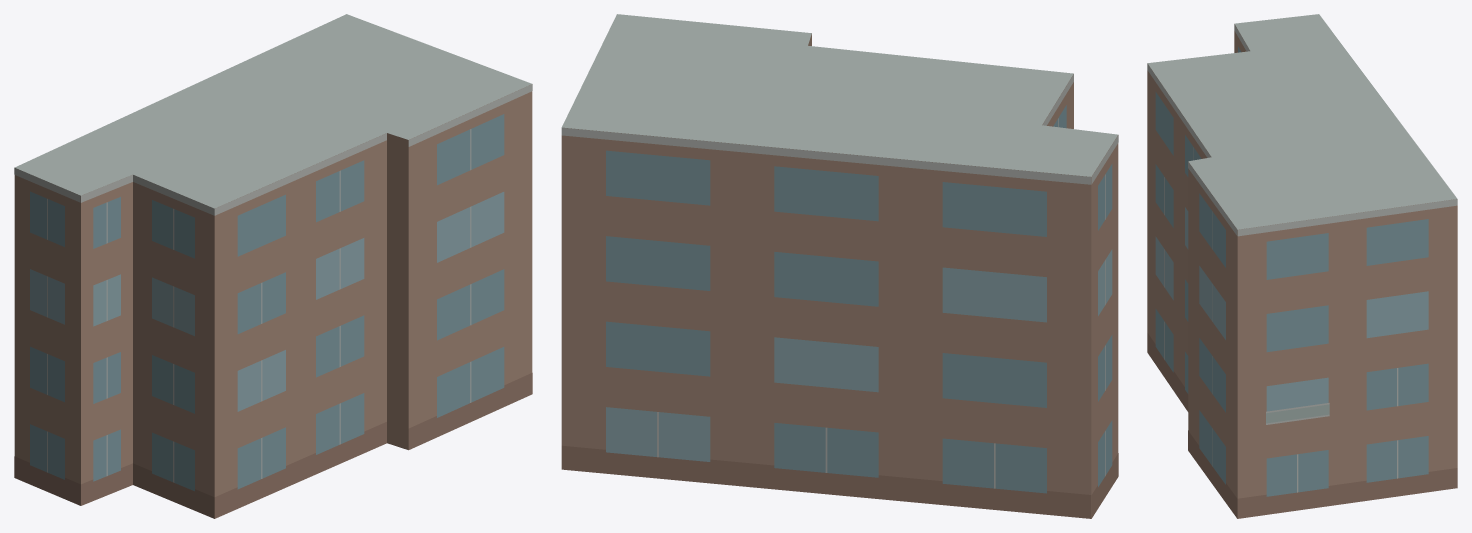
The model's file is survey-upis-32889427.glb.
The picture shows the model from 3 angles, left to right: view 1: azimuth 30°, elevation 25°; view 2: azimuth 150°, elevation 25°; view 3: azimuth 270°, elevation 25°; orthographic projection. The views are drawn at different scales.
Parts seen in each view (by area): view 1: survey-upis-32889427.tmp; view 2: survey-upis-32889427.tmp; view 3: survey-upis-32889427.tmp.
Part boxes in pixels (x1=…): survey-upis-32889427.tmp: x1=14, y1=14, x2=532, y2=518; survey-upis-32889427.tmp: x1=561, y1=14, x2=1118, y2=518; survey-upis-32889427.tmp: x1=1147, y1=14, x2=1457, y2=518.
Size of the model in its own units: 16.81 by 10.5 by 10.22.
